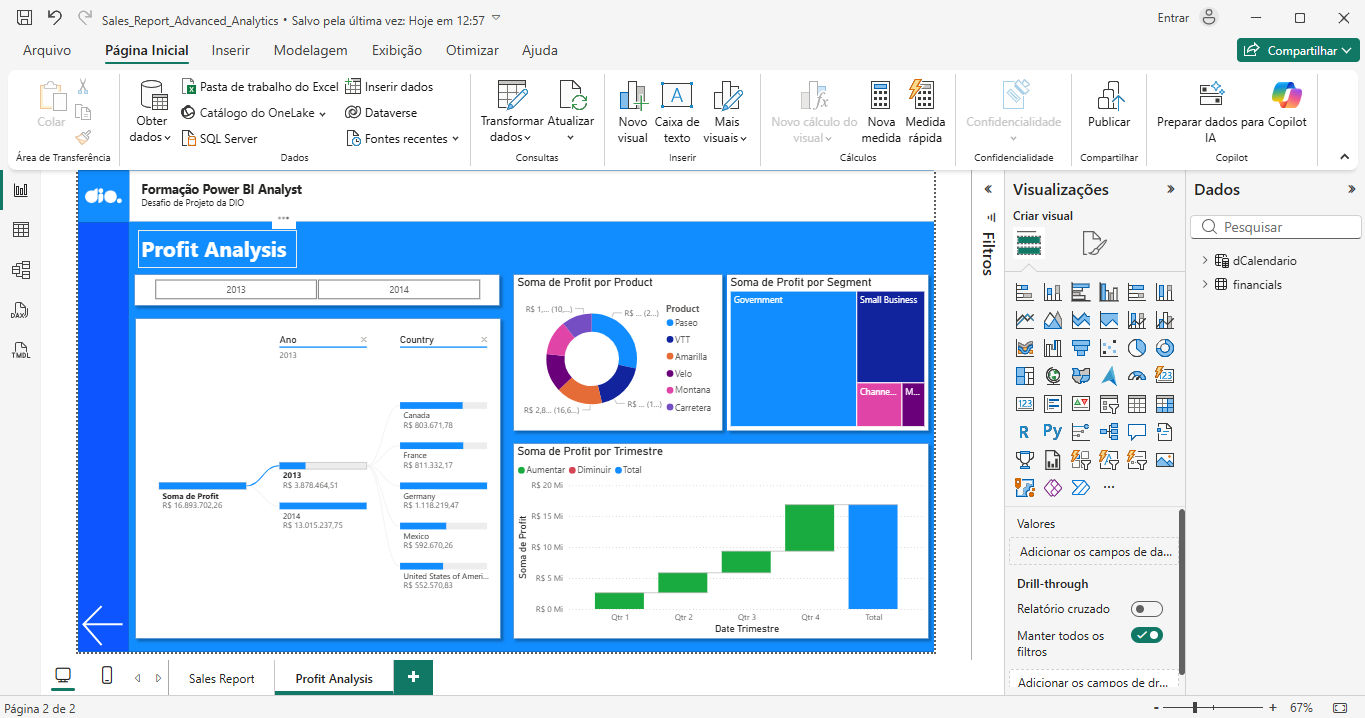

This screenshot's page, from the dashboard's own definition file:
{"tool":"powerbi","page":{"name":"Profit Analysis","canvas":[1280,720],"ordinal":1},"visuals":[{"type":"shape","box":[0,0,1280.2,720],"z":0},{"type":"shape","box":[76,0,1204,77.7],"z":1000},{"type":"shape","box":[0,77.7,76.2,642.3],"z":2000},{"type":"shape","box":[74.7,146.4,564.6,65.7],"z":3000},{"type":"shape","box":[76.2,212.1,564.6,497.4],"z":4000},{"type":"shape","box":[640.8,398.8,639.3,310.7],"z":5000},{"type":"shape","box":[640.8,146.4,331.6,252.4],"z":6000},{"type":"shape","box":[960.5,146.4,319.7,252.4],"z":7000},{"type":"decompositionTreeVisual","fields":{"Analyze":["Sum(financials.Profit)"],"ExplainBy":["dCalendario.Date.Variation.Hierarquia de datas.Ano","financials.Country"]},"box":[91.1,228.5,534.8,464.6],"z":8000},{"type":"donutChart","fields":{"Category":["financials.Product"],"Y":["Sum(financials.Profit)"]},"box":[651.3,156.8,309.2,231.5],"z":9000},{"type":"treemap","fields":{"Group":["financials.Segment"],"Values":["Sum(financials.Profit)"]},"box":[969.5,156.8,300.2,231.5],"z":10000},{"type":"waterfallChart","fields":{"Y":["Sum(financials.Profit)"],"Category":["dCalendario.Date.Variation.Hierarquia de datas.Trimestre"]},"box":[651.3,409.3,618.4,289.8],"z":11000},{"type":"slicer","fields":{"Values":["dCalendario.Date.Variation.Hierarquia de datas.Ano"]},"box":[89.6,156.8,534.8,43.3],"z":12000},{"type":"actionButton","box":[0,642.3,74.7,77.7],"z":13000},{"type":"textbox","box":[89.6,10.5,258.4,56.8],"z":14000},{"type":"textbox","box":[89.6,89.6,237.5,56.8],"z":15000},{"type":"image","box":[1.5,0,73.2,77.7],"z":16000}]}

Visuals, with their boxes on the page's 1280x720 design canvas (x1, y1, x2, y2). These are canvas units, not pixel positions in the 1365x718 screenshot, which may show the page scaled, cropped or inside an application window:
shape: box=[0, 0, 1280, 720]
shape: box=[76, 0, 1280, 78]
shape: box=[0, 78, 76, 720]
shape: box=[75, 146, 639, 212]
shape: box=[76, 212, 641, 710]
shape: box=[641, 399, 1280, 710]
shape: box=[641, 146, 972, 399]
shape: box=[960, 146, 1280, 399]
decompositionTreeVisual - Sum(financials.Profit) x dCalendario.Date.Variation.Hierarquia de datas.Ano: box=[91, 228, 626, 693]
donutChart - financials.Product x Sum(financials.Profit): box=[651, 157, 960, 388]
treemap - financials.Segment x Sum(financials.Profit): box=[970, 157, 1270, 388]
waterfallChart - Sum(financials.Profit) x dCalendario.Date.Variation.Hierarquia de datas.Trimestre: box=[651, 409, 1270, 699]
slicer - dCalendario.Date.Variation.Hierarquia de datas.Ano: box=[90, 157, 624, 200]
actionButton: box=[0, 642, 75, 720]
textbox: box=[90, 10, 348, 67]
textbox: box=[90, 90, 327, 146]
image: box=[2, 0, 75, 78]
